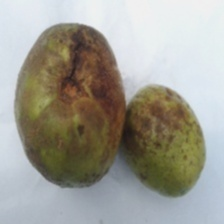guava: (53, 29, 205, 217)
